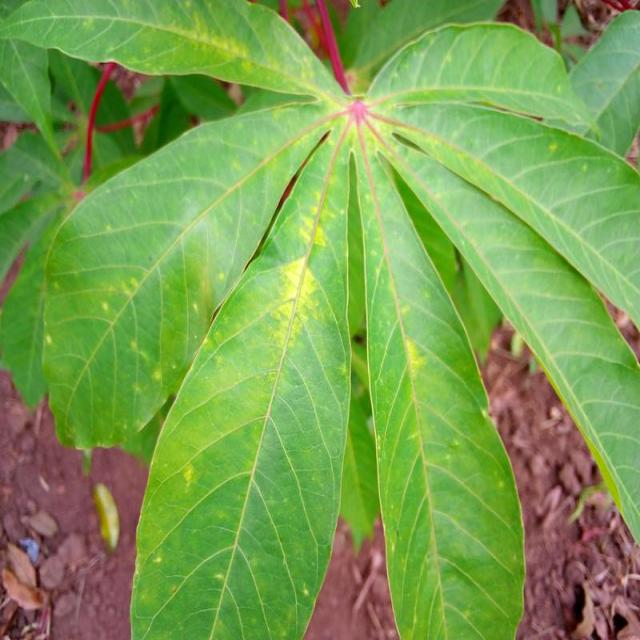cassava leaf: (17, 2, 638, 638)
